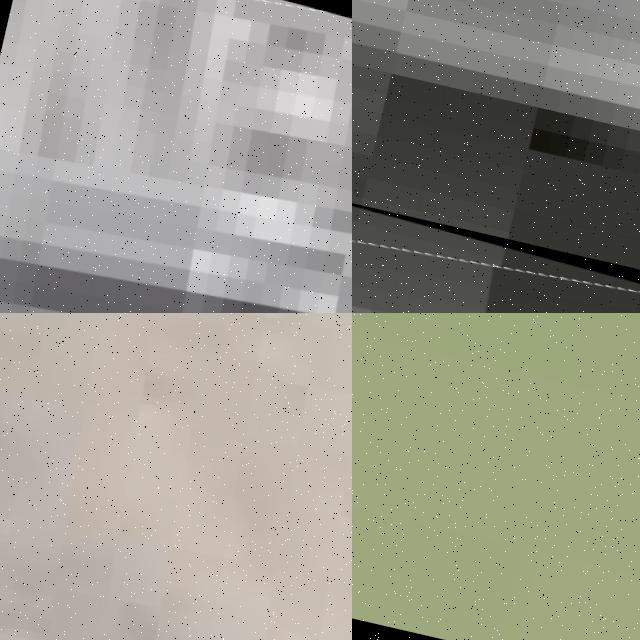drone: (0, 313, 352, 640), (0, 0, 352, 313), (352, 183, 640, 313)
